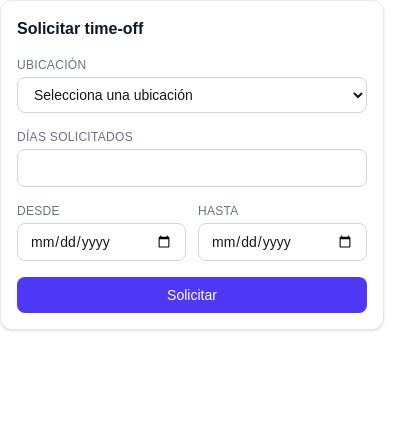
Test case: an HCM conflict (stale asOf) shows distinct feedback from insufficient balance
The image size is (401, 440).
Select "Ciudad de México" in the dropdown: (192, 95) [17,77,367,113]
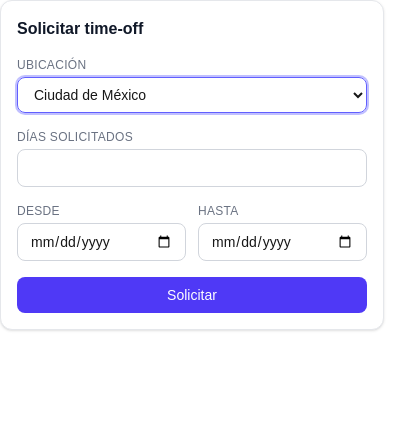
In the number field: (192, 168) [17,149,367,187], type "3"
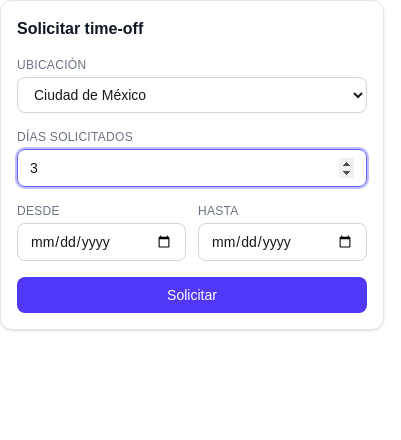
In the date field labelled "Desde": (102, 242) [17,223,186,261], type "2026-07-01"
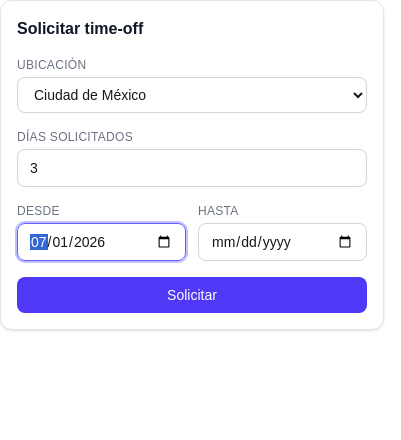
In the date field labelled "Hasta": (282, 242) [198,223,367,261], type "2026-07-03"
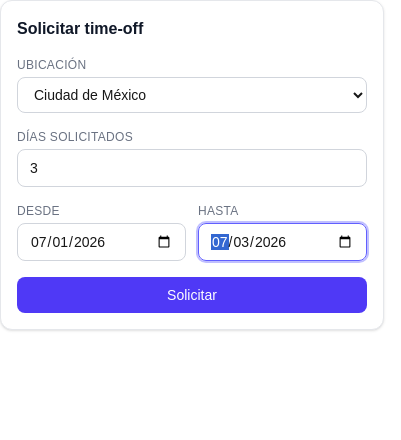
Click the button "Solicitar": click(192, 295) [17,277,367,313]
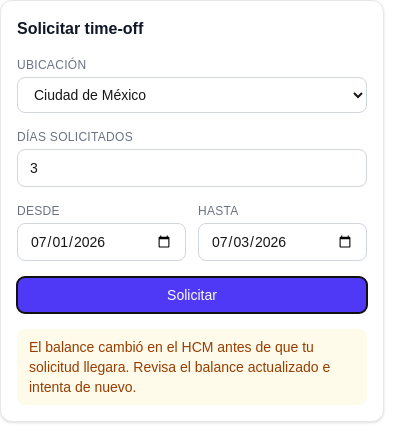
Expected: the text "El balance cambió en el HCM antes de que tu solicitud llegara" is shown, [29,339,330,395]
